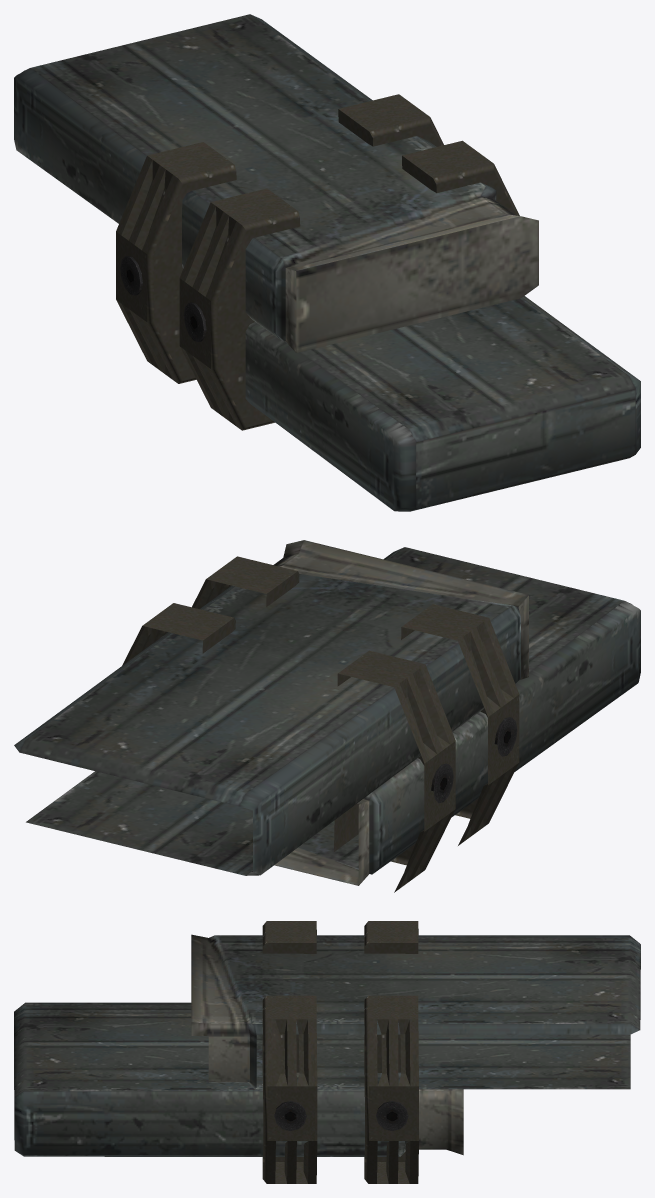
Rendered from t6_attach_fastmag_scar_view_LOD0.obj.
3 renders of one model, top to bottom at view 1: azimuth 30°, elevation 25°; view 2: azimuth 150°, elevation 25°; view 3: azimuth 270°, elevation 25°, orthographic. The views are drawn at different scales.
Visible parts, largest first — view 1: mtl_t6_wpn_ar_scarh_camo1, mtl_t6_wpn_ar_scarh_camo3; view 2: mtl_t6_wpn_ar_scarh_camo1, mtl_t6_wpn_ar_scarh_camo3; view 3: mtl_t6_wpn_ar_scarh_camo1, mtl_t6_wpn_ar_scarh_camo3.
Part boxes in pixels (box(x1,y1,x2,y2)): mtl_t6_wpn_ar_scarh_camo1: box(14, 14, 640, 511); mtl_t6_wpn_ar_scarh_camo3: box(120, 256, 206, 341); mtl_t6_wpn_ar_scarh_camo1: box(14, 540, 640, 892); mtl_t6_wpn_ar_scarh_camo3: box(431, 717, 517, 803); mtl_t6_wpn_ar_scarh_camo1: box(14, 921, 640, 1183); mtl_t6_wpn_ar_scarh_camo3: box(274, 1101, 408, 1130).
Size of the model in its own units: 10.23 by 6.31 by 21.82.
